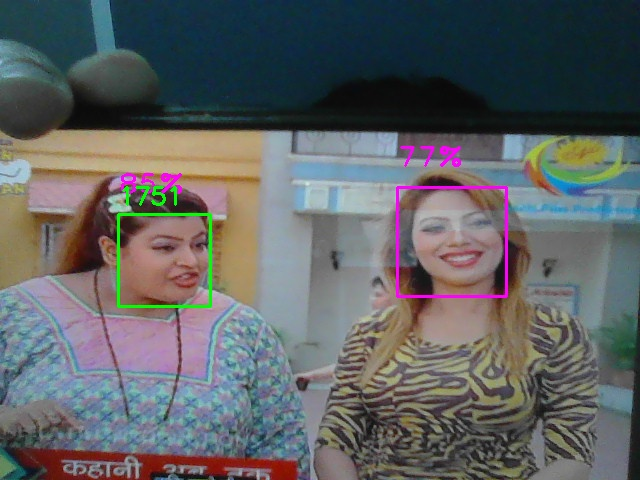fake: (118, 214, 211, 307)
